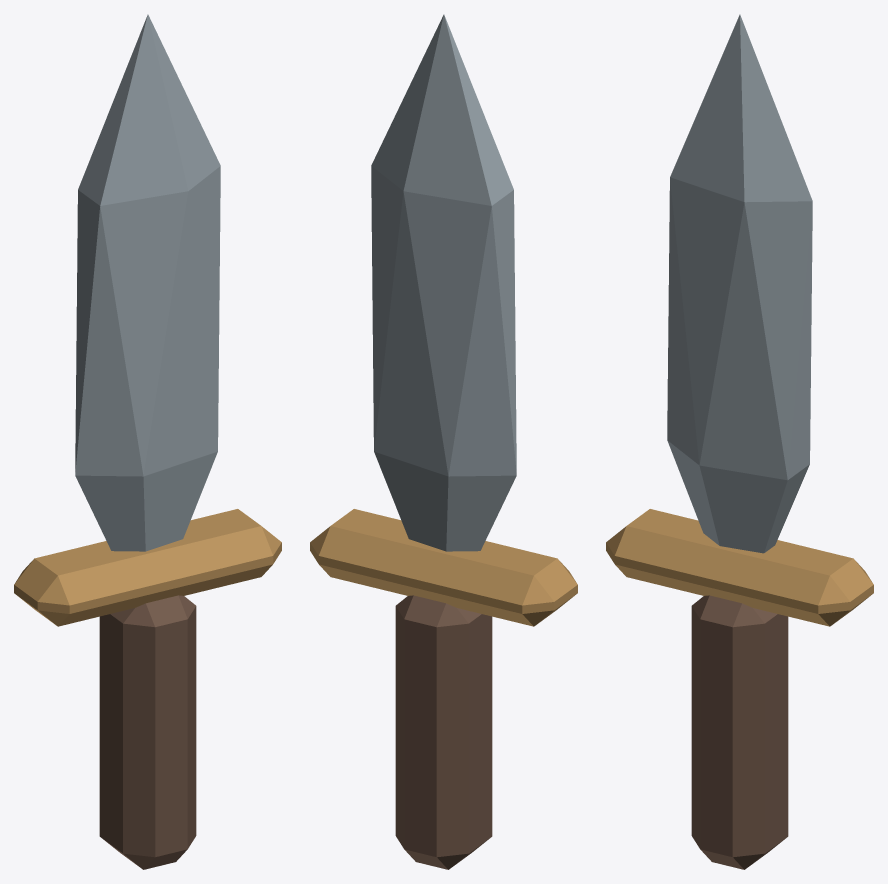
The model's file is SH10_ThousandEdge.fbx.
3 views of the same model, side by side, from view 1: azimuth 30°, elevation 25°; view 2: azimuth 150°, elevation 25°; view 3: azimuth 330°, elevation 25° (orthographic).
Visible parts, largest first — view 1: SH10_ThousandEdge; view 2: SH10_ThousandEdge; view 3: SH10_ThousandEdge.
Part boxes in pixels (x1=…): SH10_ThousandEdge: x1=14, y1=14, x2=281, y2=869; SH10_ThousandEdge: x1=310, y1=14, x2=577, y2=869; SH10_ThousandEdge: x1=606, y1=14, x2=873, y2=869.
Bounding box in the file's own units: 30 × 99 × 10.
